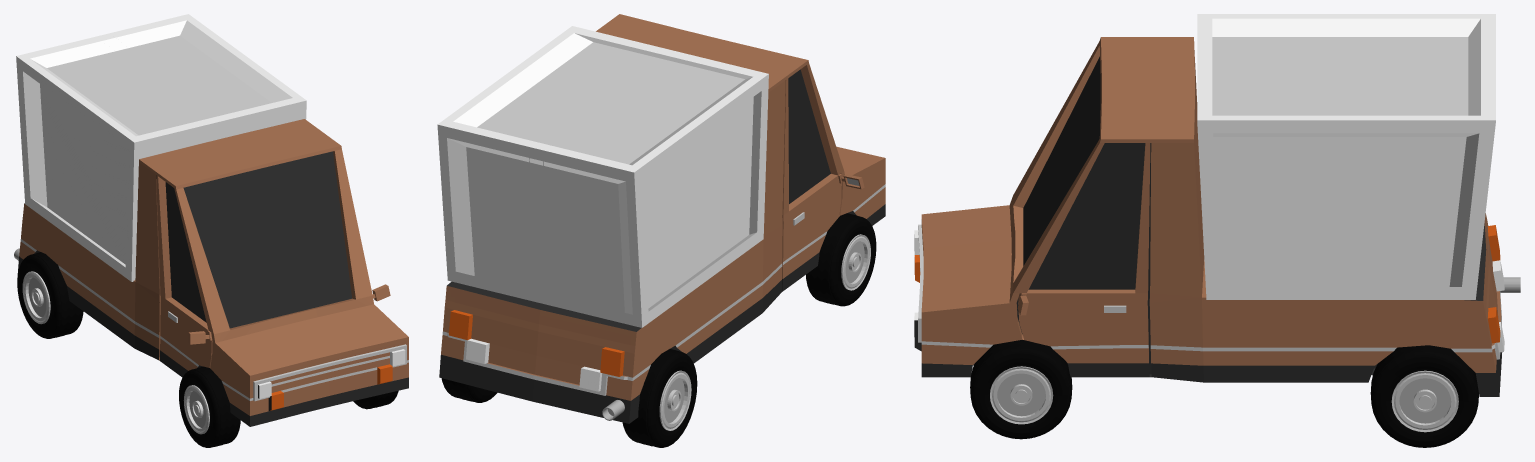
The model's file is CR-CAR-9.fbx.
3 renders of one model, left to right at view 1: azimuth 30°, elevation 25°; view 2: azimuth 150°, elevation 25°; view 3: azimuth 270°, elevation 25°, orthographic. The views are drawn at different scales.
Parts seen in each view (by area): view 1: BODY, WHEEL.004, WHEEL.001, WHEEL.003; view 2: BODY, WHEEL.004, WHEEL.001, WHEEL.002; view 3: BODY, WHEEL.002, WHEEL.003.
Boxes of the visible parts, x1,y1,x2,y2 form: BODY: [16, 14, 408, 426]; WHEEL.004: [17, 252, 83, 338]; WHEEL.001: [179, 366, 240, 447]; WHEEL.003: [353, 390, 398, 409]; BODY: [437, 14, 885, 423]; WHEEL.004: [622, 349, 697, 447]; WHEEL.001: [806, 213, 876, 306]; WHEEL.002: [441, 378, 497, 402]; BODY: [914, 14, 1504, 396]; WHEEL.002: [1370, 345, 1478, 447]; WHEEL.003: [970, 339, 1072, 439].
Size of the model in its own units: 118 by 145 by 244.
